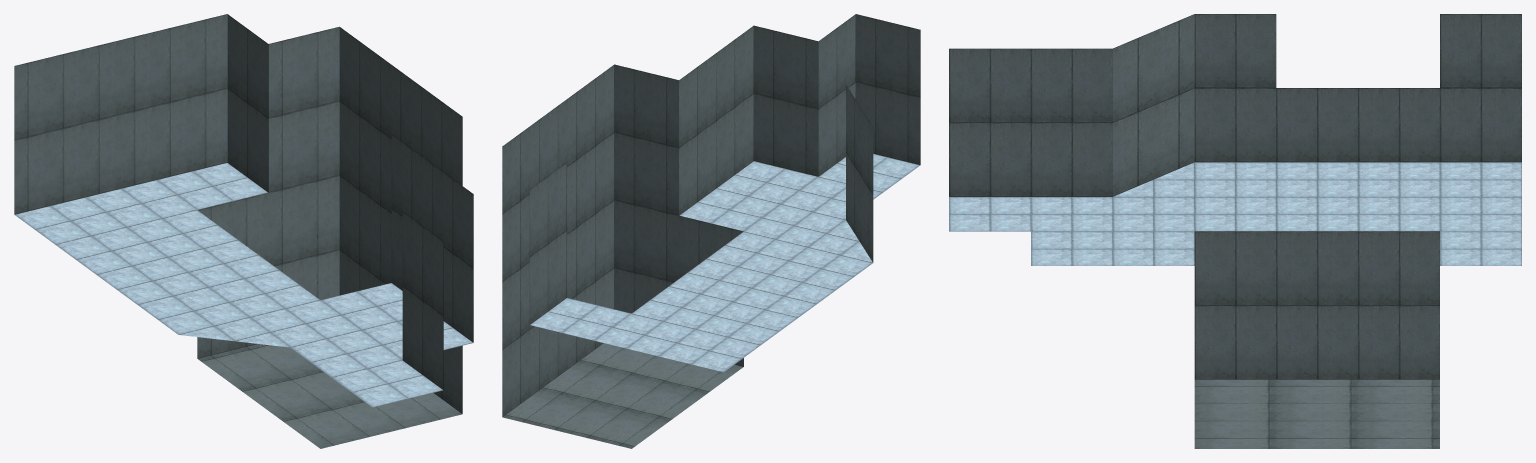
The model's file is Map.glb.
3 views of the same model, side by side, from view 1: azimuth 30°, elevation 25°; view 2: azimuth 150°, elevation 25°; view 3: azimuth 270°, elevation 25° (orthographic). The views are drawn at different scales.
Visible parts, largest first — view 1: PortalSurfaceMain; view 2: PortalSurfaceMain; view 3: PortalSurfaceMain.
Boxes of the visible parts, x1=… form: PortalSurfaceMain: x1=14, y1=14, x2=473, y2=448; PortalSurfaceMain: x1=502, y1=14, x2=920, y2=448; PortalSurfaceMain: x1=949, y1=14, x2=1521, y2=448.
Bounding box in the file's own units: 16 × 16 × 28.
Materials: 2 (2 with a texture image).
